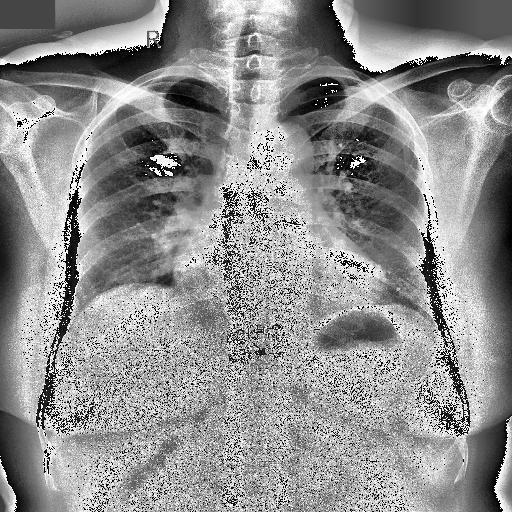0- Aortic enlargement: (254, 122, 313, 180), (255, 122, 314, 166)
11- Pleural thickening: (352, 76, 406, 118)
3- Cardiomegaly: (170, 254, 386, 324), (170, 242, 389, 306)
